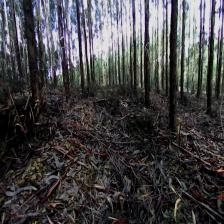trunk: (23, 4, 41, 96), (170, 0, 180, 132), (58, 13, 71, 100), (206, 13, 216, 111), (77, 14, 86, 93), (144, 3, 150, 107), (180, 20, 186, 99), (84, 23, 91, 87), (197, 29, 202, 96), (133, 25, 138, 92), (166, 31, 168, 96)
